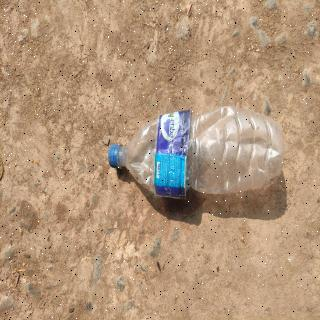Plastic-bottle: (106, 103, 288, 205)
